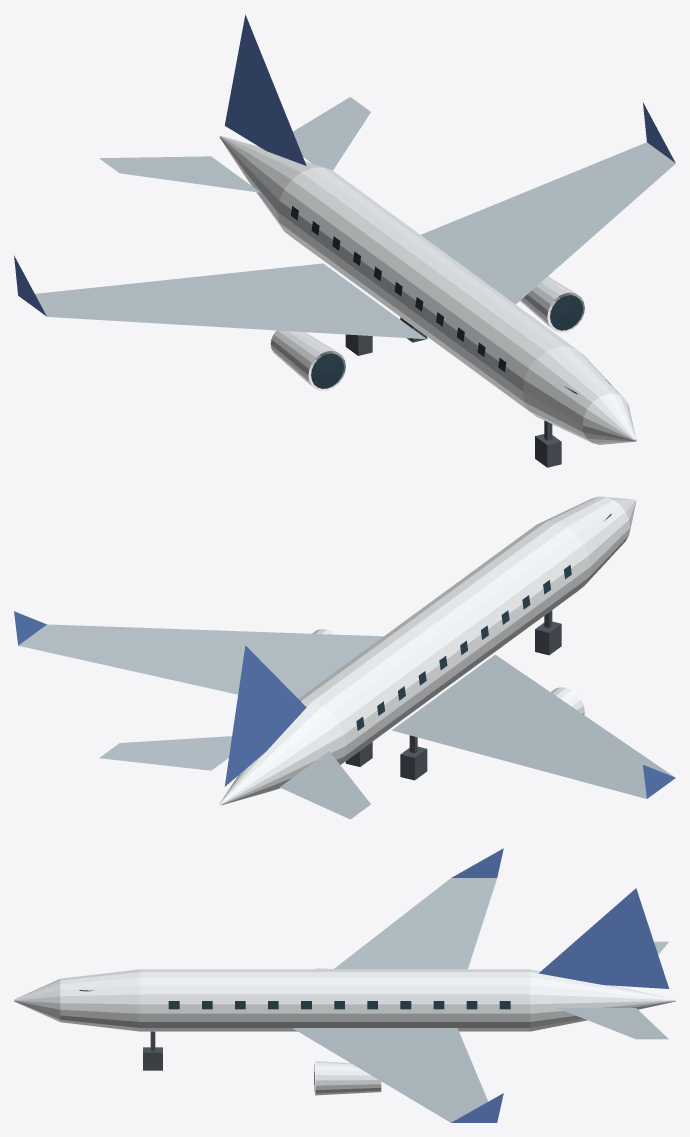
Rendered from b737-SWA.gltf.
3 views of the same model, one above another, from view 1: azimuth 30°, elevation 25°; view 2: azimuth 150°, elevation 25°; view 3: azimuth 270°, elevation 25° (orthographic). The views are drawn at different scales.
Visible parts, largest first — view 1: object 1, Gear; view 2: object 1, Gear; view 3: object 1, Gear.
Boxes of the visible parts, left/top/right/bottom form: object 1: left=14, top=14, right=675, bottom=444; Gear: left=345, top=317, right=561, bottom=467; object 1: left=14, top=496, right=675, bottom=819; Gear: left=345, top=610, right=561, bottom=780; object 1: left=14, top=848, right=675, bottom=1122; Gear: left=143, top=1031, right=162, bottom=1070.
Size of the model in its own units: 35 by 12 by 40.
